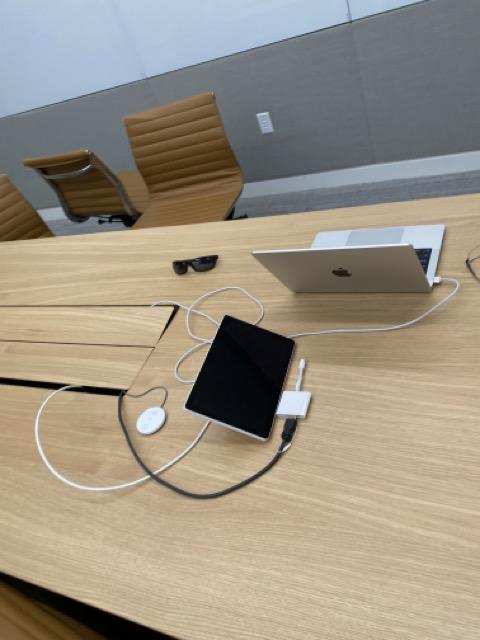Sunglasses: (172, 253, 219, 277)
